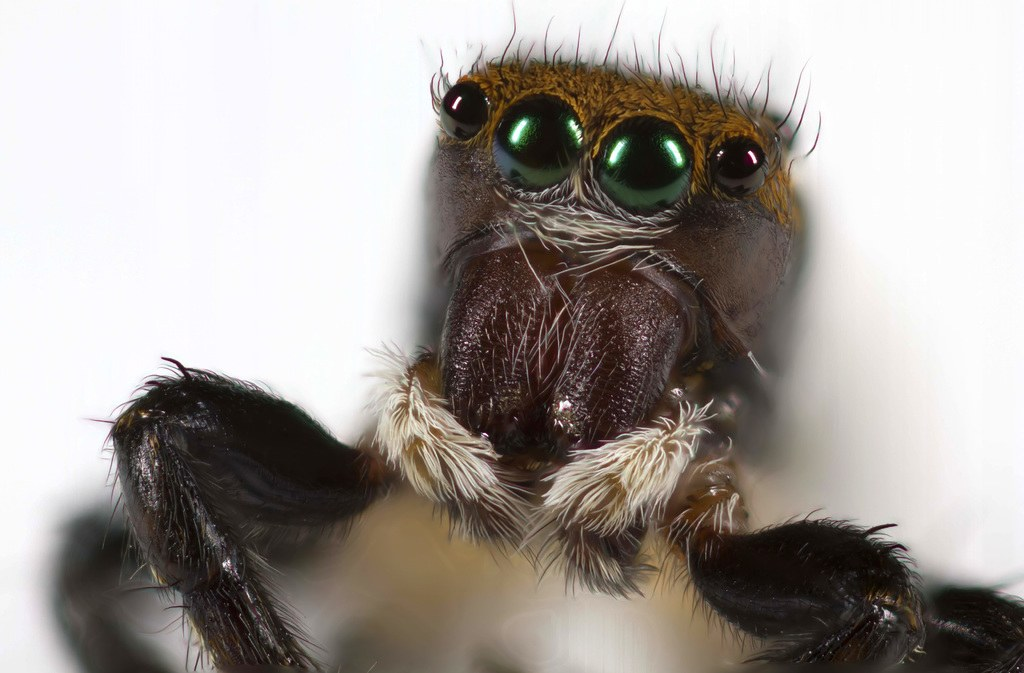insect: (35, 0, 1023, 672), (51, 0, 1023, 672)
